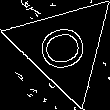O_E: (33, 19, 95, 75)
